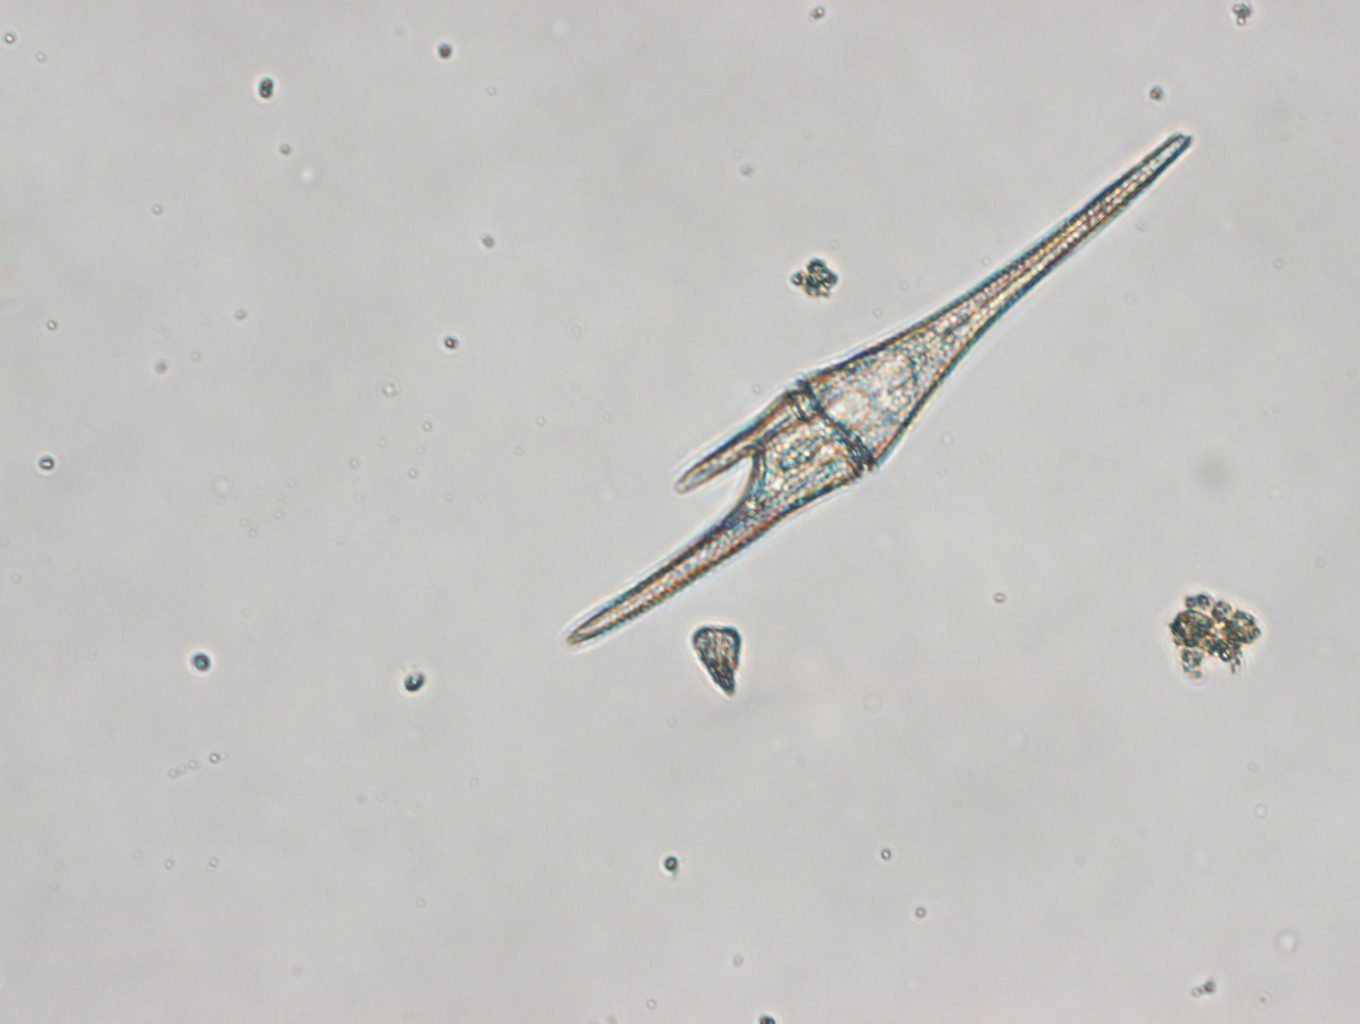ceratium furca: (563, 128, 1194, 649)
